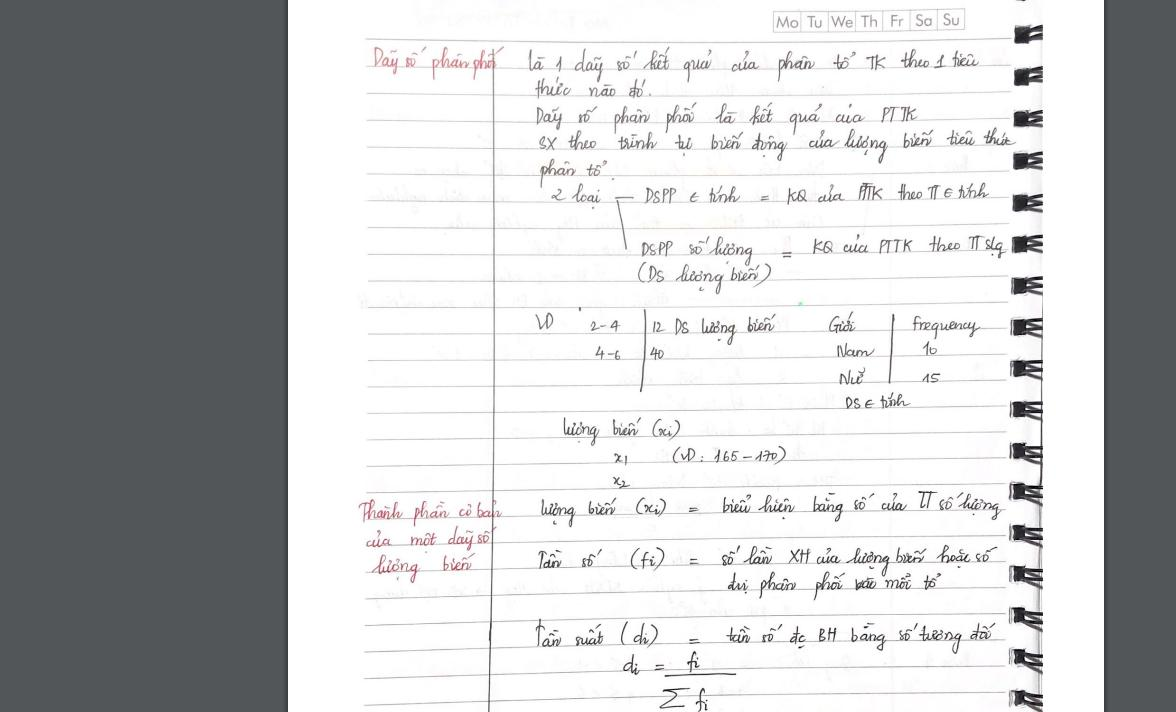text: (537, 487, 1005, 530), (534, 124, 1018, 163), (531, 616, 998, 655), (534, 542, 1001, 580), (525, 44, 982, 82), (638, 232, 1010, 268), (530, 100, 920, 132), (642, 179, 993, 209), (724, 569, 943, 604), (619, 648, 738, 712), (368, 44, 507, 84), (634, 260, 772, 298), (356, 498, 506, 528), (650, 312, 779, 346), (559, 415, 683, 447), (364, 523, 496, 553), (367, 551, 478, 586), (774, 12, 961, 31), (532, 76, 654, 103), (668, 443, 789, 466), (536, 156, 610, 189), (910, 314, 984, 342), (549, 181, 603, 213), (844, 391, 912, 410), (834, 340, 877, 362), (824, 310, 859, 336), (836, 365, 868, 389), (586, 316, 623, 334), (592, 344, 624, 362), (534, 308, 556, 334), (920, 369, 942, 386), (610, 474, 632, 491), (610, 450, 630, 466), (919, 340, 938, 356), (648, 345, 664, 362)
